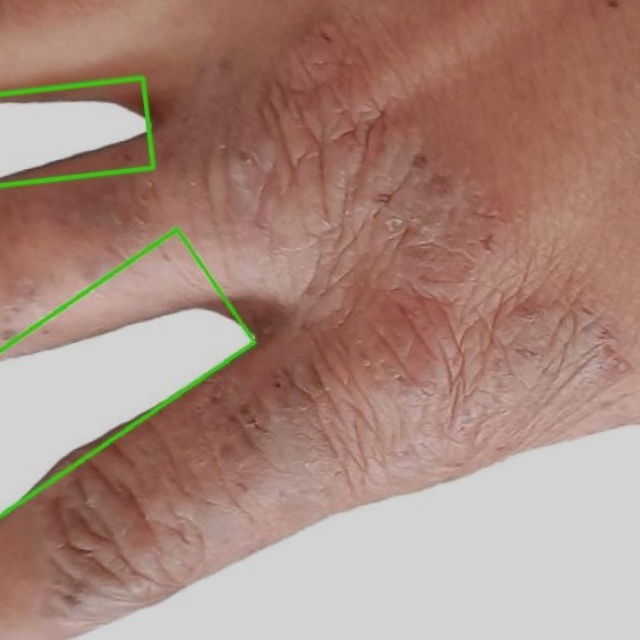Eczema: (0, 228, 266, 552), (0, 78, 153, 185)
